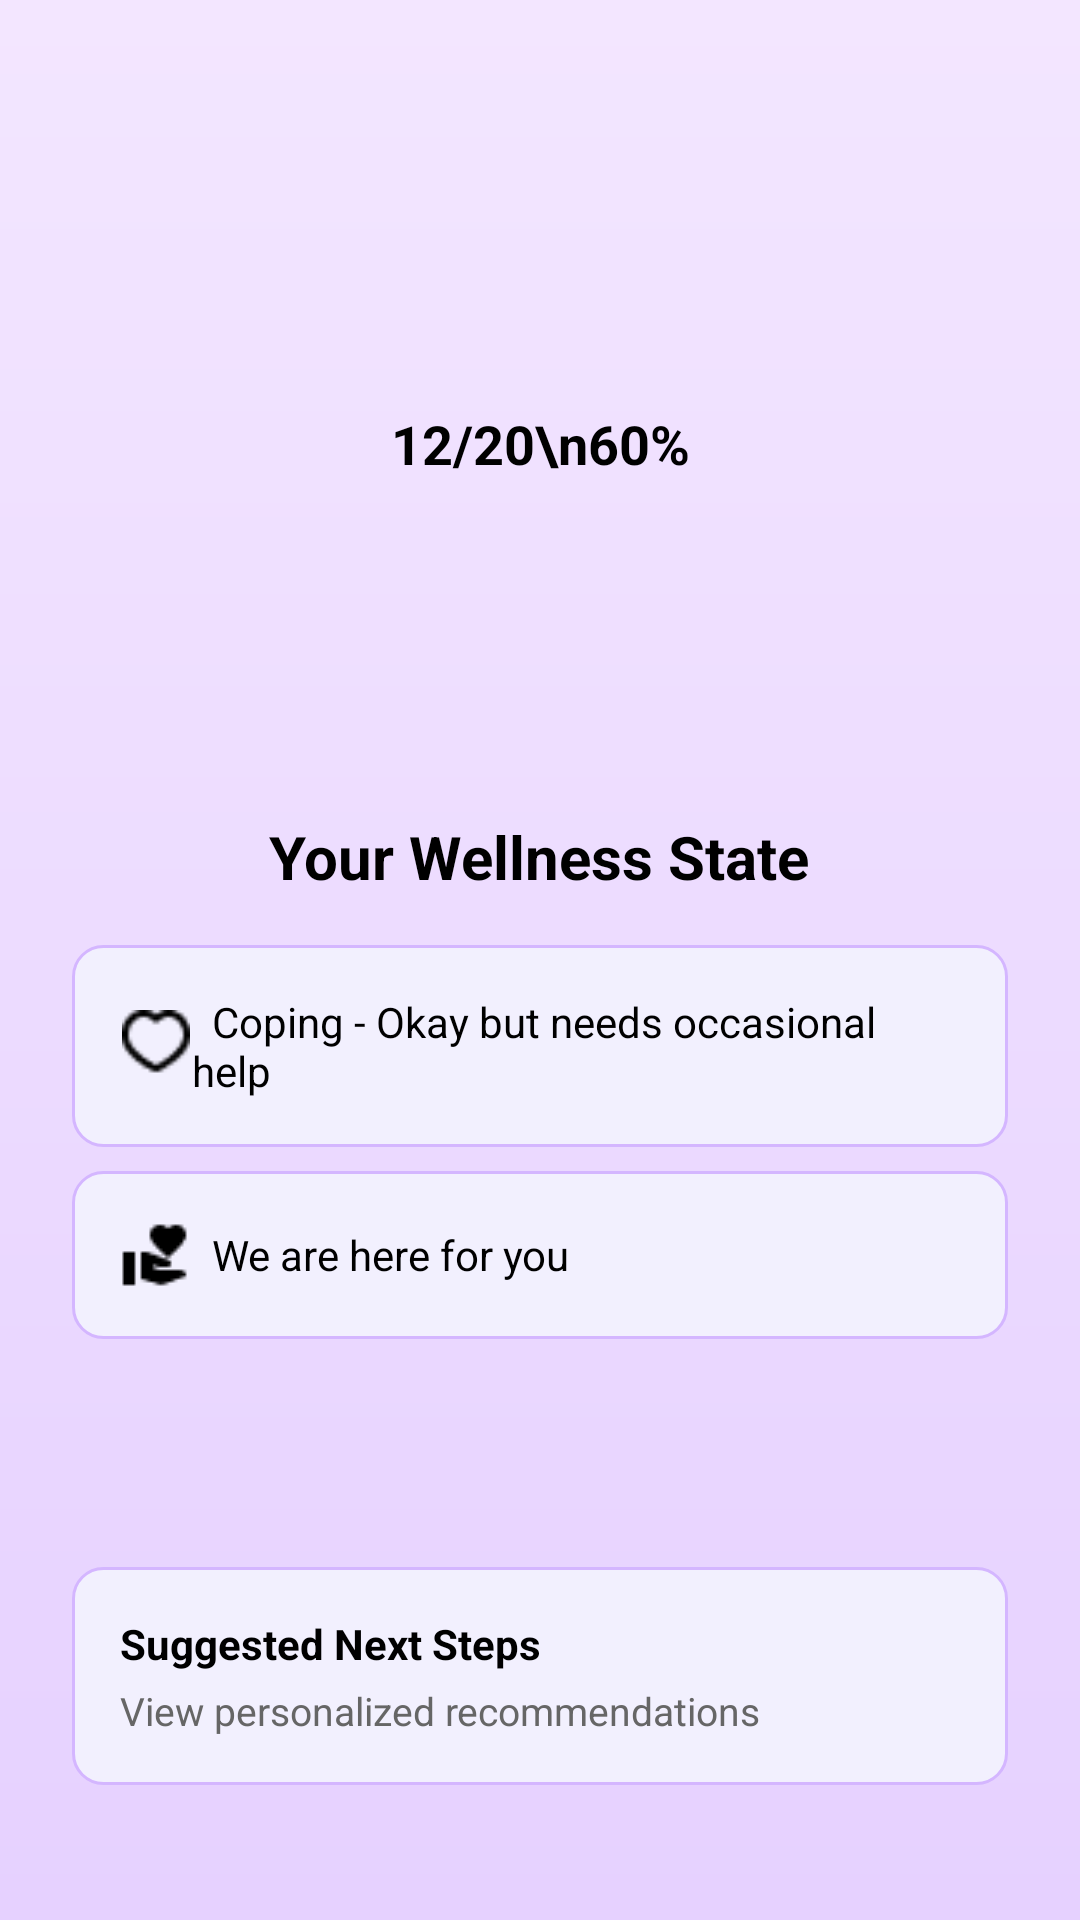

Point at icon controls on the screen. Image size 1080w x 1920h, points as (x,y).
hand: (154,1255)
